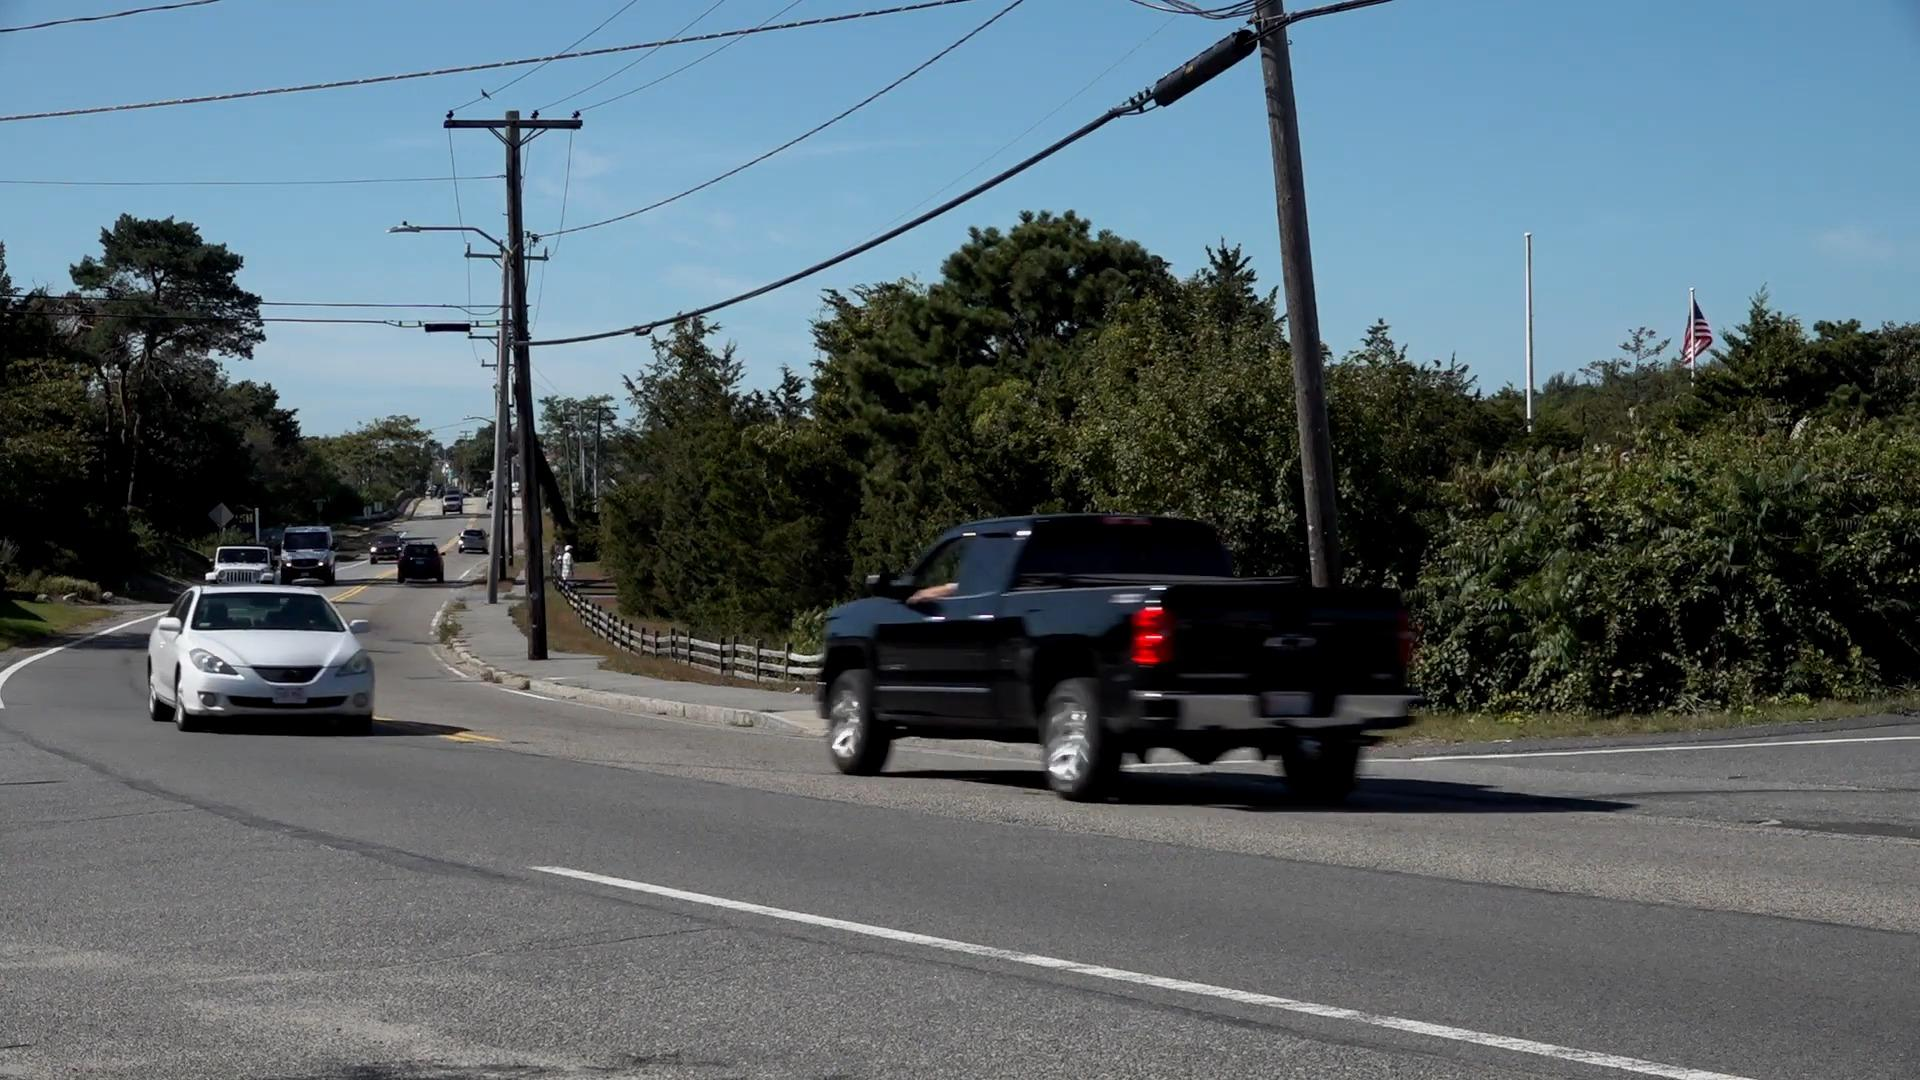pickup: (817, 508, 1418, 807)
suv: (143, 573, 370, 737)
